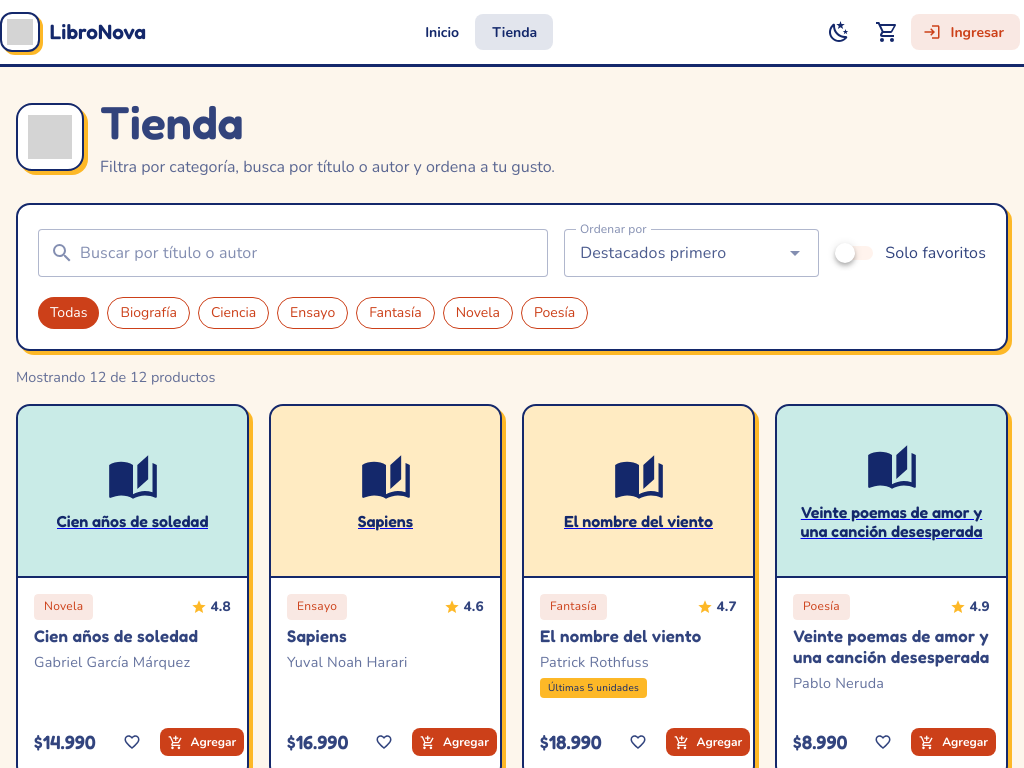
it: Carrito de compras › actualiza el total al cambiar la cantidad
This screenshot has width=1024, height=768.
Click the button with test id "btn-agregar" next to "$14.990" at (203, 742), box x1=160 y1=728 x2=245 y2=756
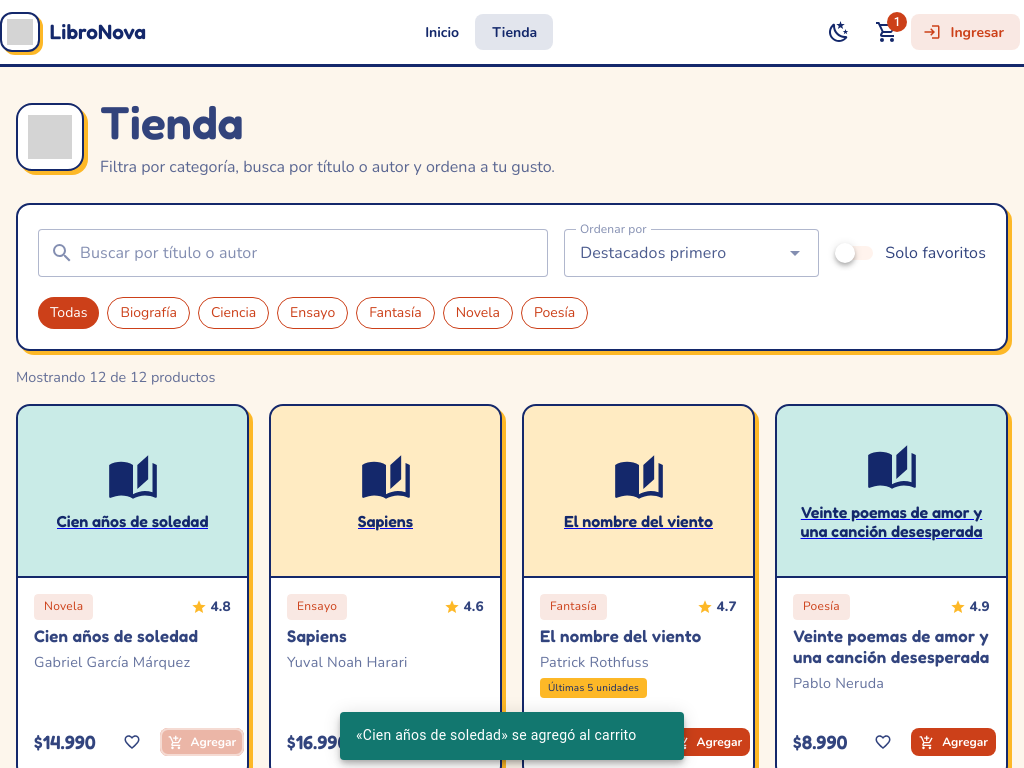
Click the link with test id "btn-carrito" at (887, 32), box x1=863 y1=8 x2=911 y2=56
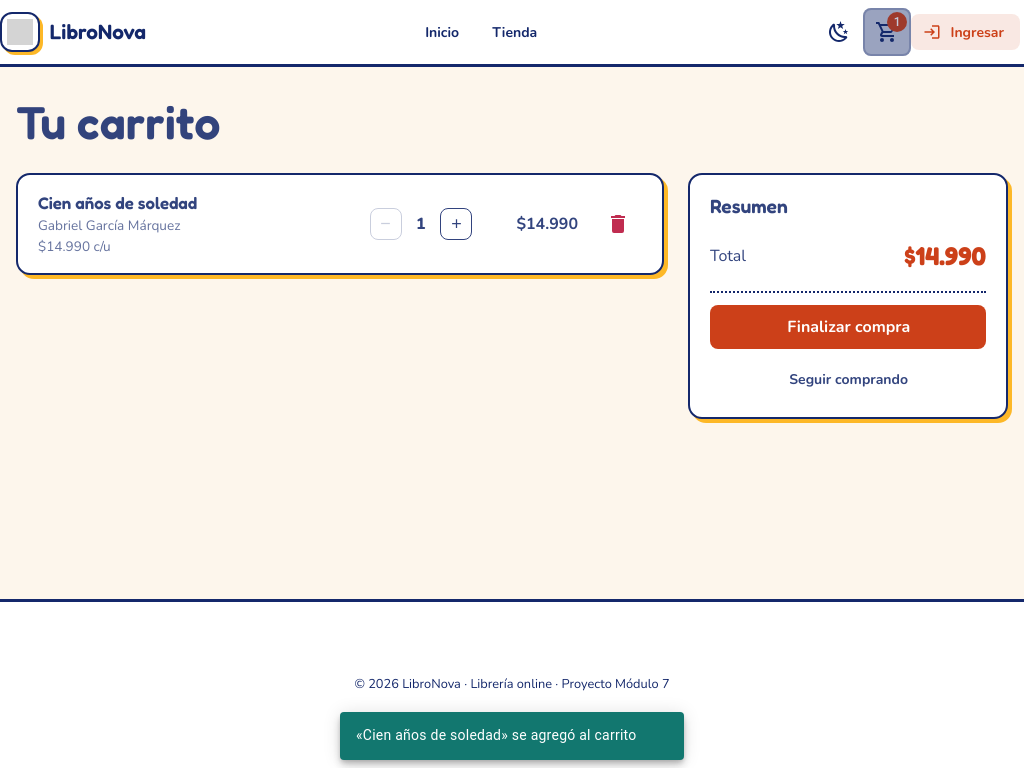
Click the button named "Aumentar cantidad" at (456, 224), box x1=440 y1=208 x2=472 y2=240
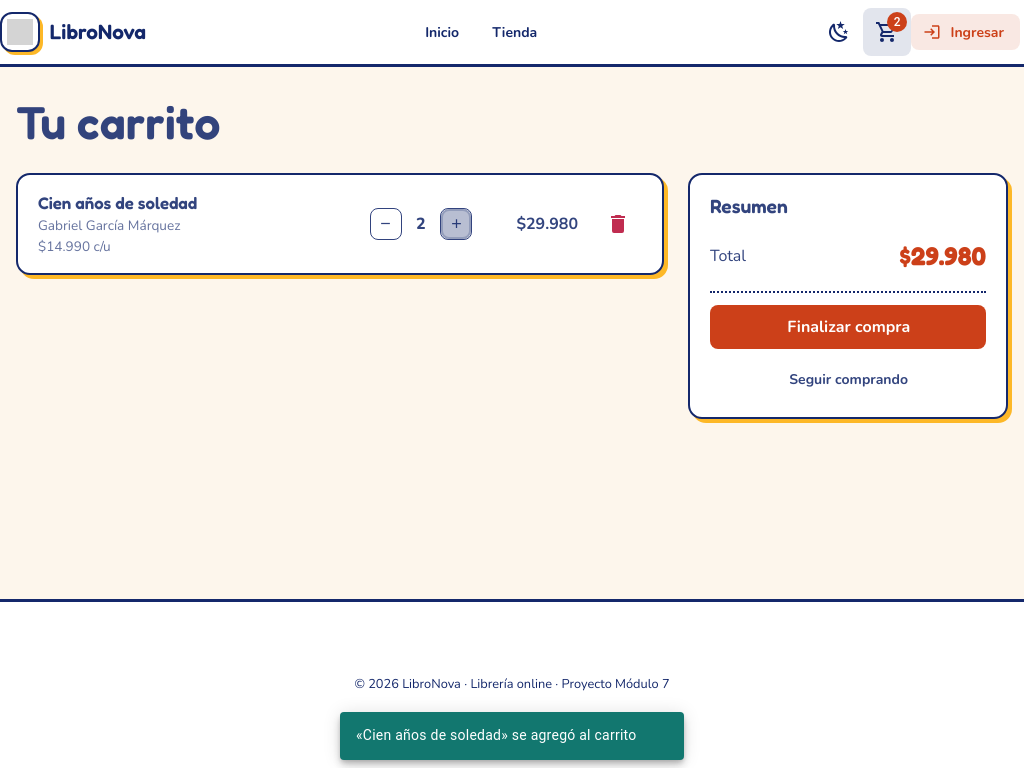
expect the text with test id "linea-cantidad" reads "2": met, box x1=416 y1=213 x2=426 y2=235
expect the text with test id "total" shows "29.980": met, box x1=900 y1=240 x2=986 y2=271
